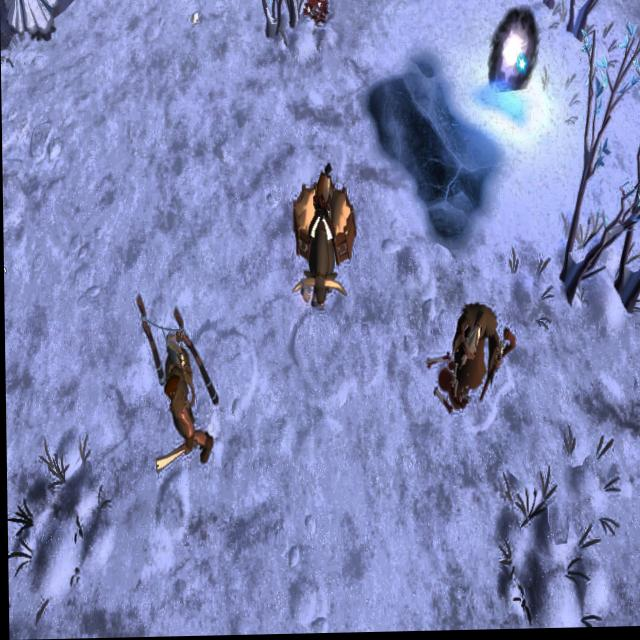enemy_factionKeeper: (439, 295, 512, 412), (150, 362, 213, 471)
fiber_t5: (303, 0, 329, 25)
